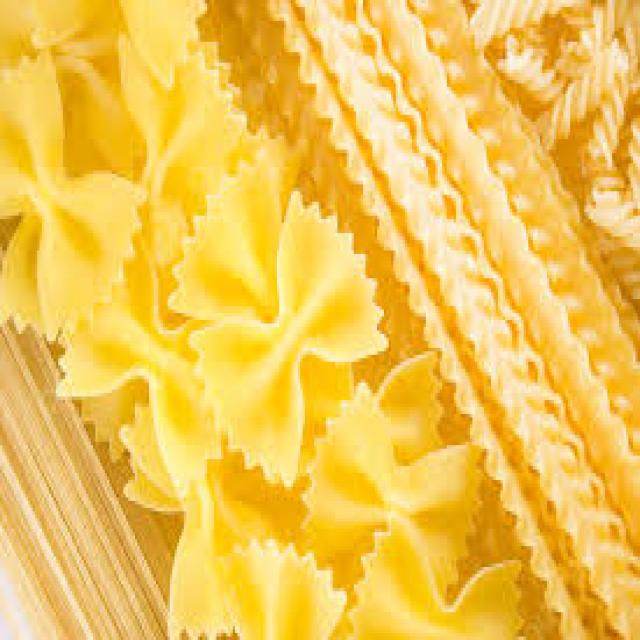Pasta: (0, 0, 573, 626)
